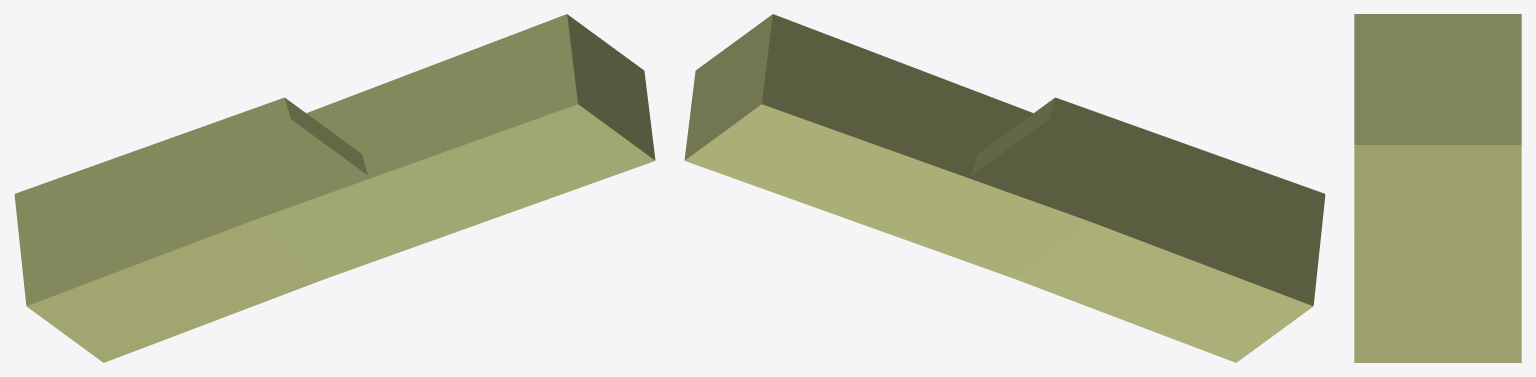
3 views of the same model, side by side, from view 1: azimuth 30°, elevation 25°; view 2: azimuth 150°, elevation 25°; view 3: azimuth 270°, elevation 25° (orthographic). The views are drawn at different scales.
Parts seen in each view (by area): view 1: 0_1_2_0_3_0_1_1_1_1; view 2: 0_1_2_0_3_0_1_1_1_1; view 3: 0_1_2_0_3_0_1_1_1_1.
Boxes of the visible parts, x1,y1,x2,y2 form: 0_1_2_0_3_0_1_1_1_1: (14, 14, 655, 362); 0_1_2_0_3_0_1_1_1_1: (684, 14, 1325, 362); 0_1_2_0_3_0_1_1_1_1: (1354, 14, 1521, 362).
Size of the model in its own units: 25.24 by 6.87 by 6.
